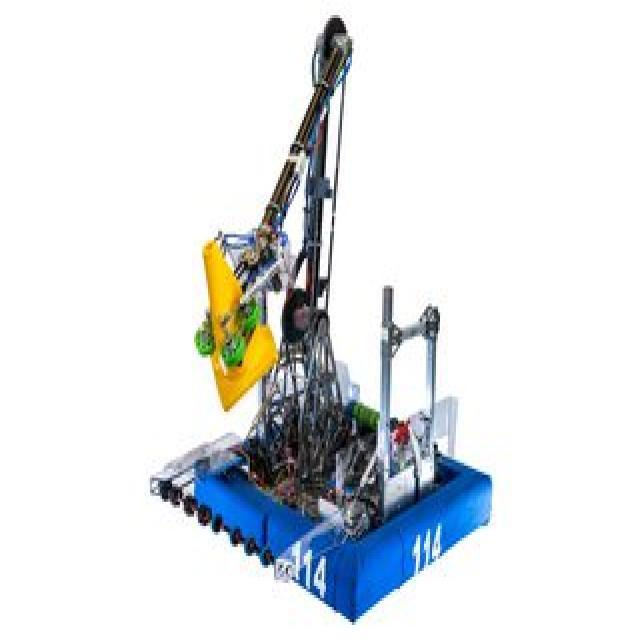robot: (135, 2, 499, 630)
